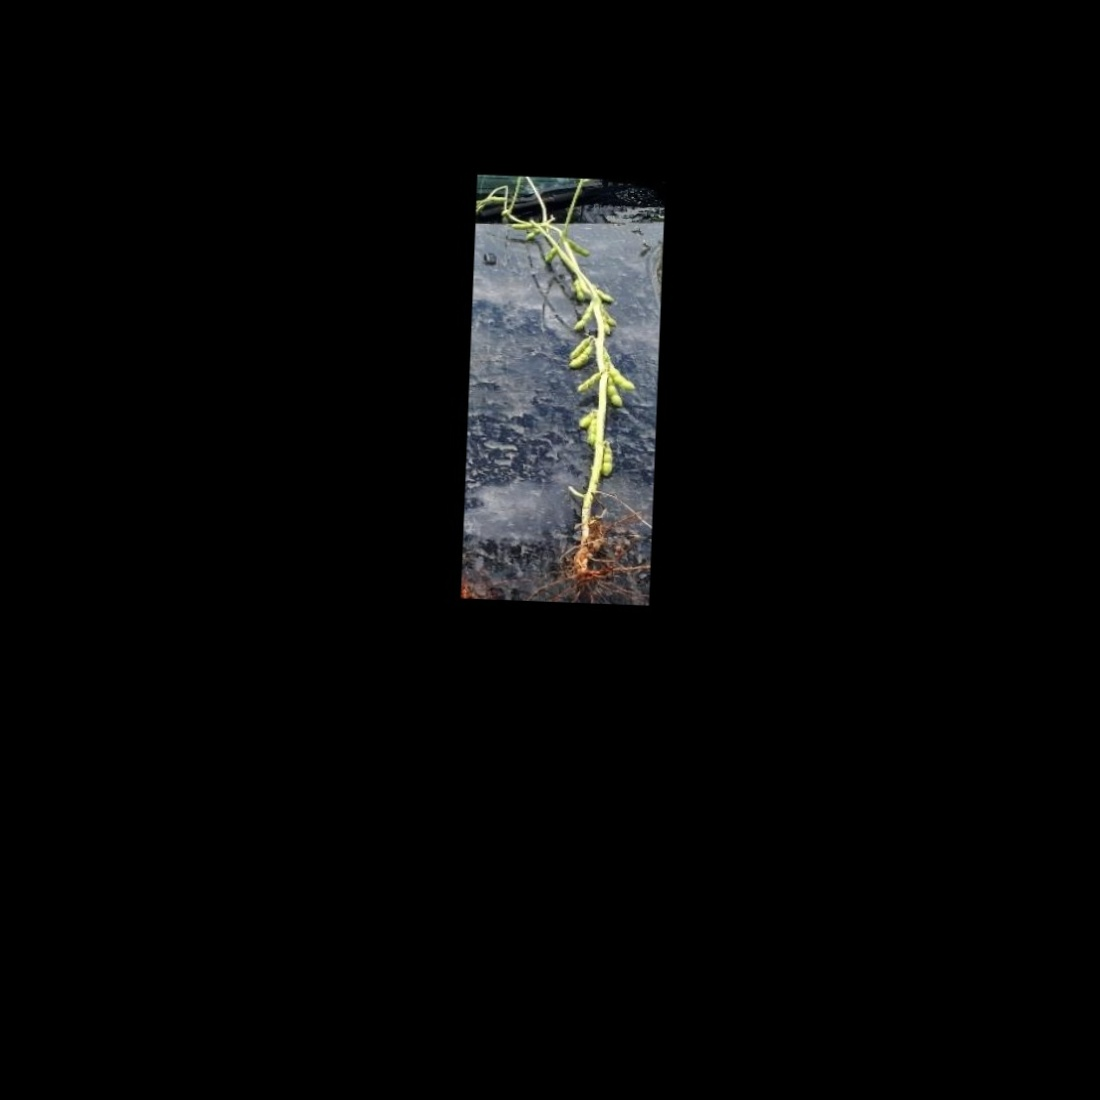pod: (604, 361, 638, 391), (597, 443, 616, 482), (573, 371, 603, 394), (570, 303, 593, 332), (604, 377, 625, 408), (542, 238, 562, 265), (566, 238, 593, 257), (524, 226, 544, 242), (587, 418, 598, 446)
soy: (480, 197, 649, 588)
